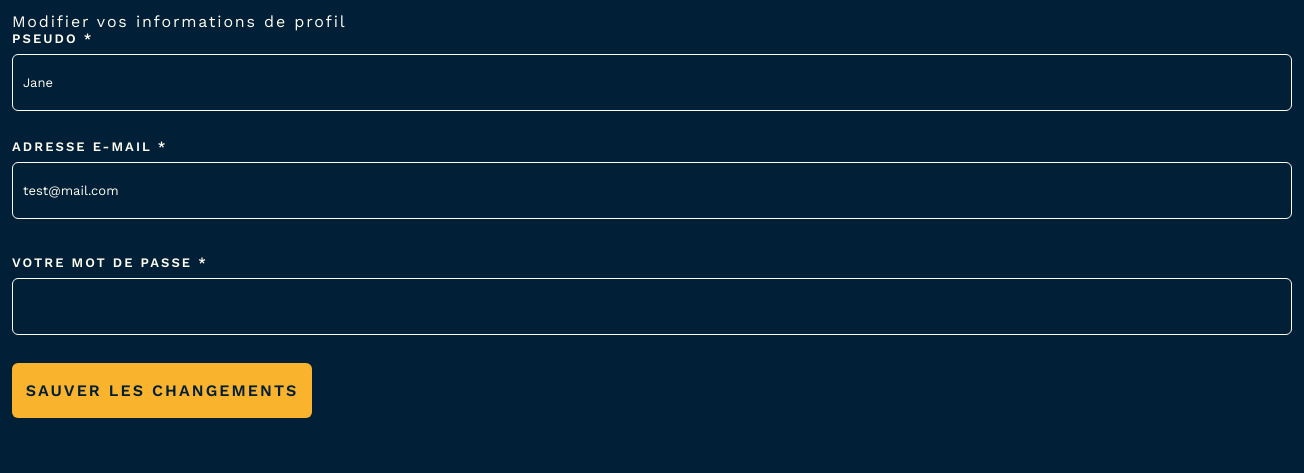
Scenario: UpdateProfileForm component tests › should set password error if field is empty
Replace the text in the field labelled "Pseudo *" with "Barbie": x=652, y=82 [12,54,1292,111]
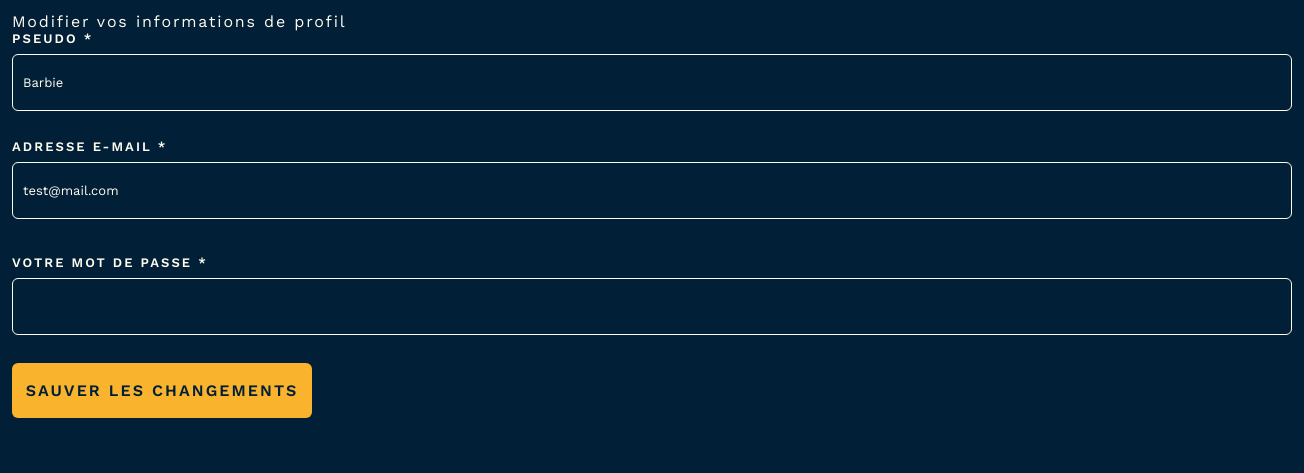
Replace the text in the field labelled "Adresse e-mail *" with "barbie@test.fr": x=652, y=190 [12,162,1292,219]
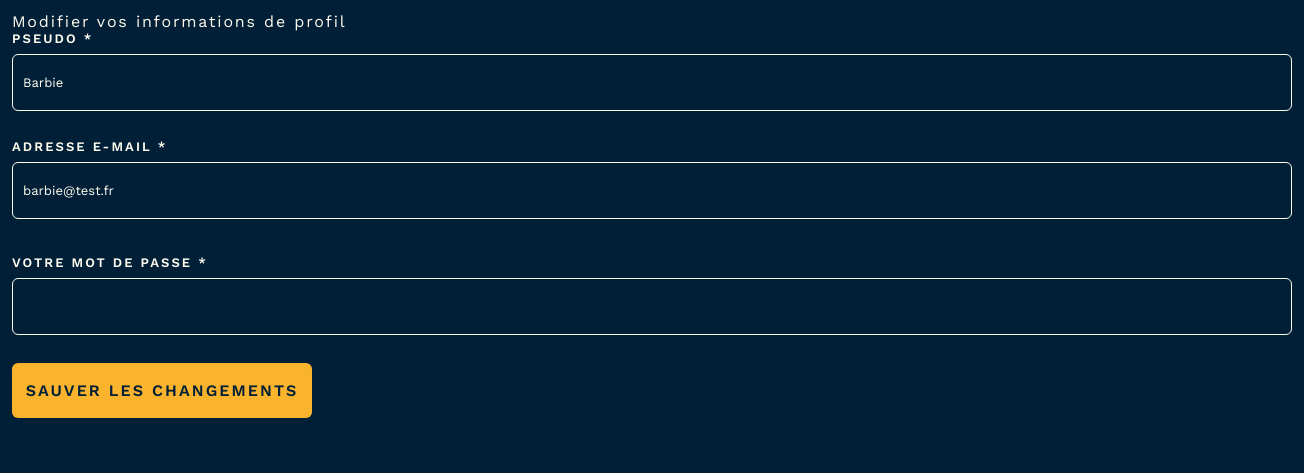
Click the button "Sauver les changements": x=162, y=390 [12,363,312,418]
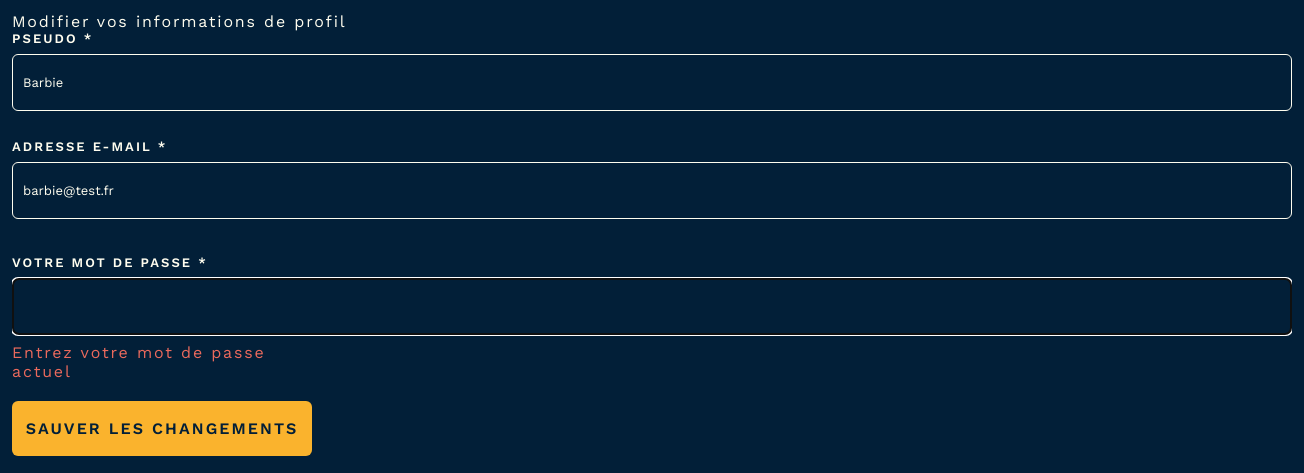
Result: the text "Entrez votre mot de passe actuel" is shown at [12,343,266,381]
